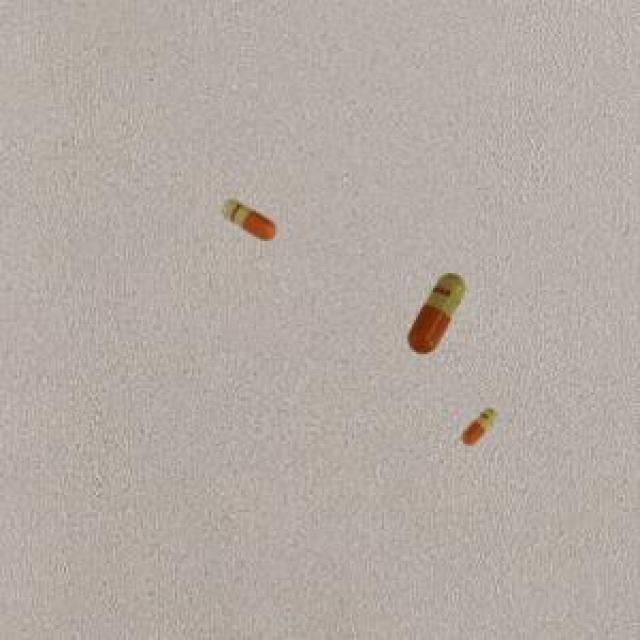Alaxan: (392, 256, 478, 368), (215, 188, 280, 242), (453, 397, 505, 456)
